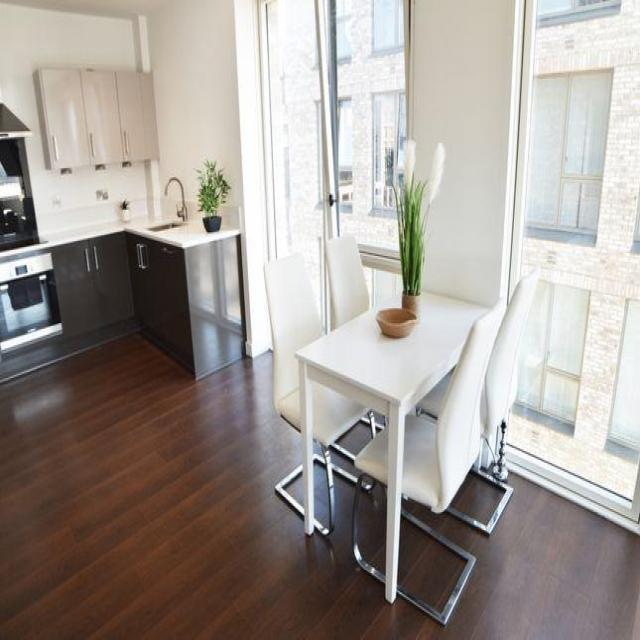Wall: (0, 334, 640, 639), (146, 0, 270, 355), (0, 5, 160, 235), (409, 0, 522, 306), (399, 521, 462, 607), (0, 1, 166, 18), (360, 486, 386, 569), (456, 476, 500, 518), (345, 428, 369, 451), (315, 467, 325, 520), (291, 480, 301, 500), (169, 184, 180, 200)
